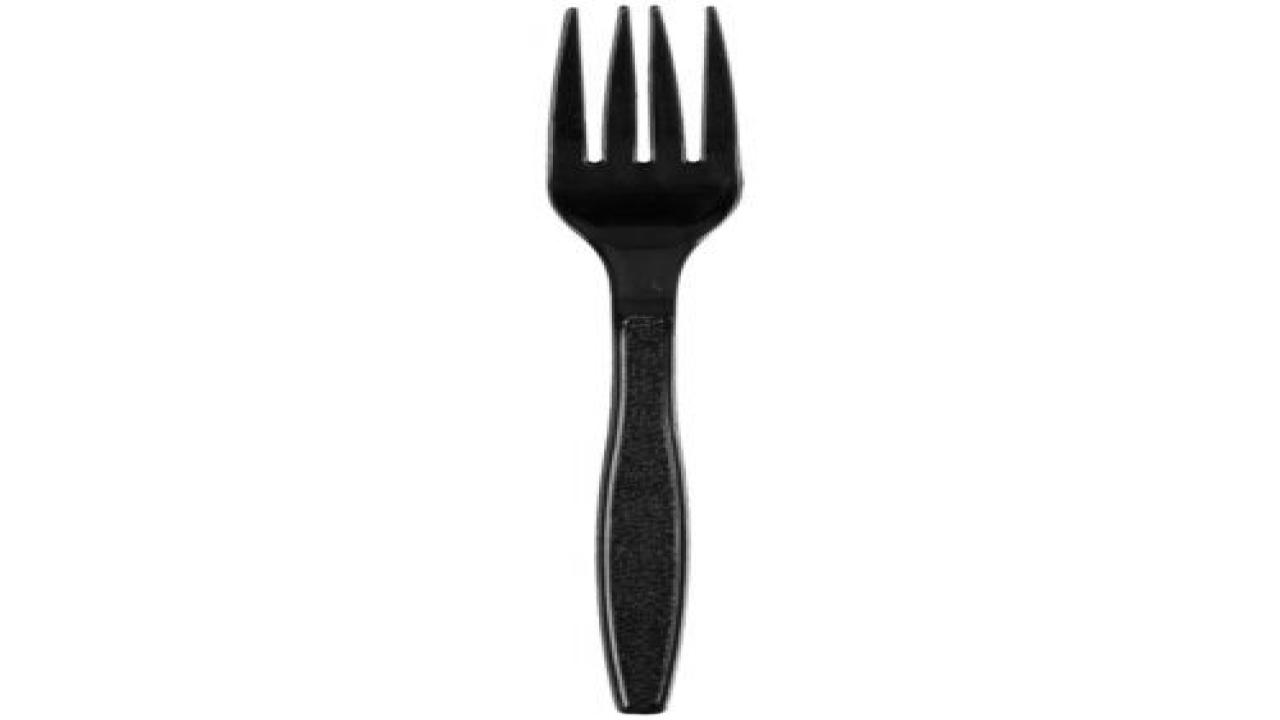fork: (543, 3, 742, 713)
